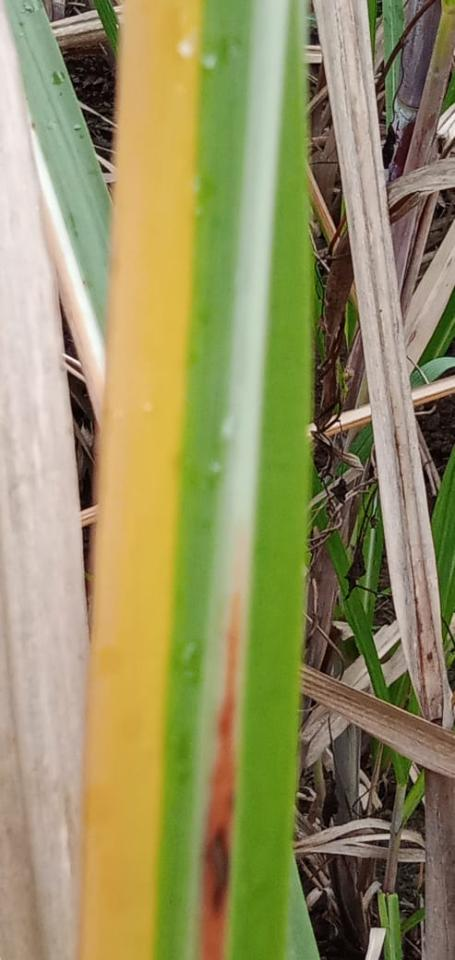RedRot: (194, 597, 239, 959)
Yellow: (82, 0, 196, 959)
